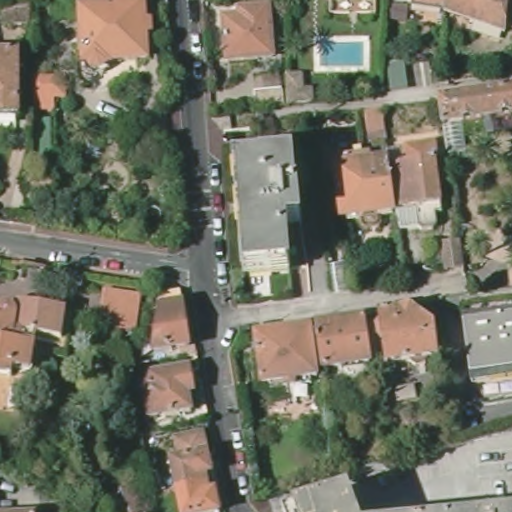pool: (319, 37, 368, 70)
